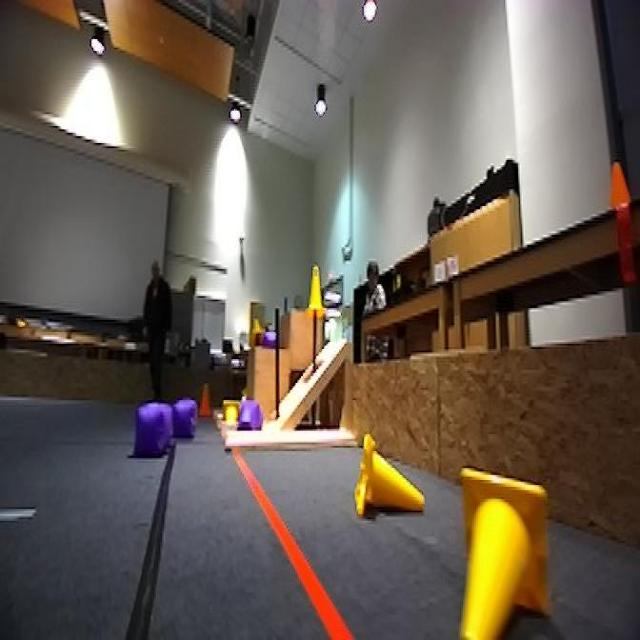frc_cone: (452, 466, 554, 630), (351, 434, 426, 528), (306, 264, 328, 316), (220, 402, 243, 427)
frc_cube: (132, 405, 172, 456), (172, 397, 198, 442), (236, 398, 259, 429), (259, 330, 279, 347)
